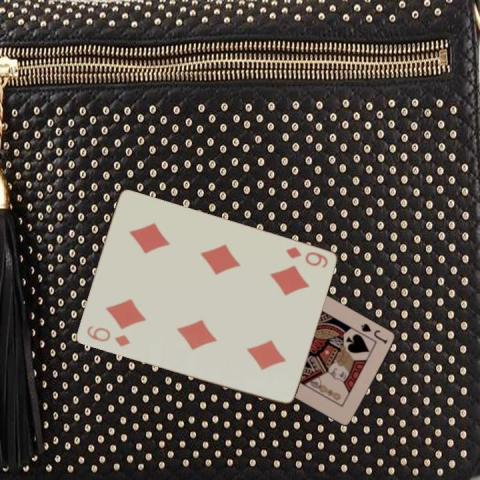6d: (84, 323, 132, 348), (282, 244, 329, 269)
Js: (357, 321, 389, 345)
